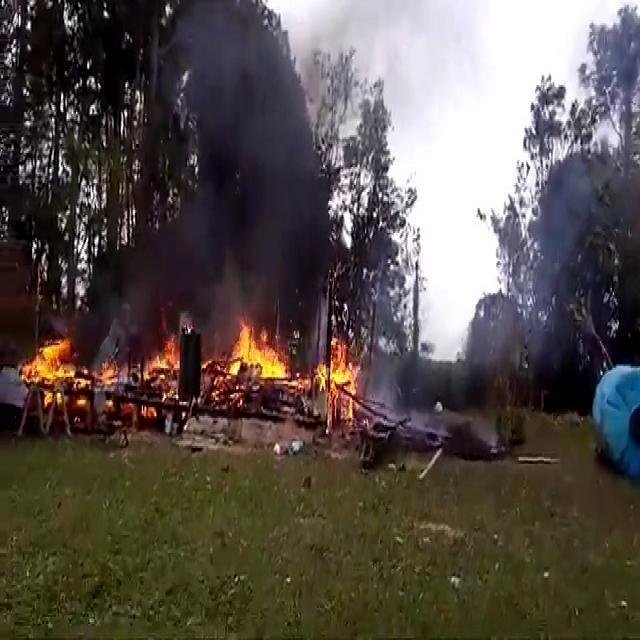Fire: (210, 314, 294, 396), (18, 330, 82, 408), (141, 319, 188, 423), (316, 337, 362, 417)
Smoke: (121, 0, 381, 345), (357, 136, 617, 430)
